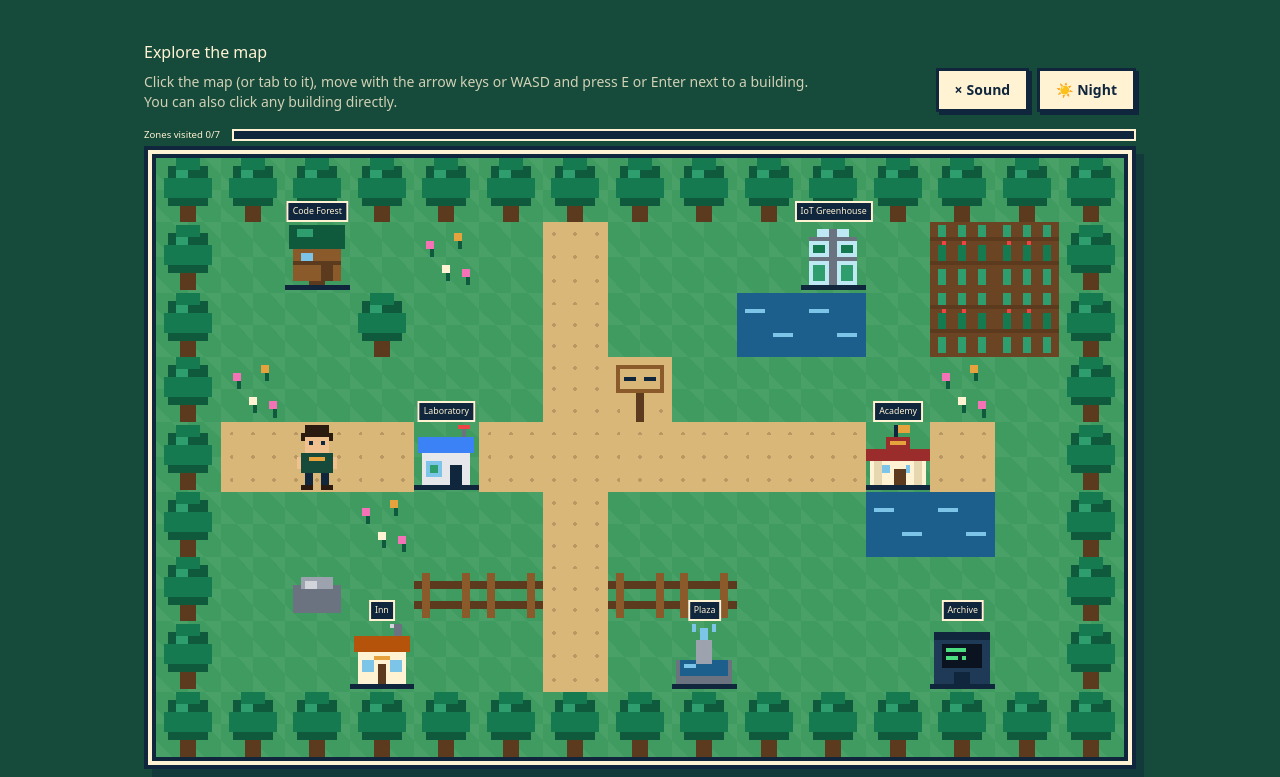
it: PortfolioWorld › renders in English
Click the element named "Diecu's Engineering Quest map" at (640, 457), box 152,154 -> 1128,760
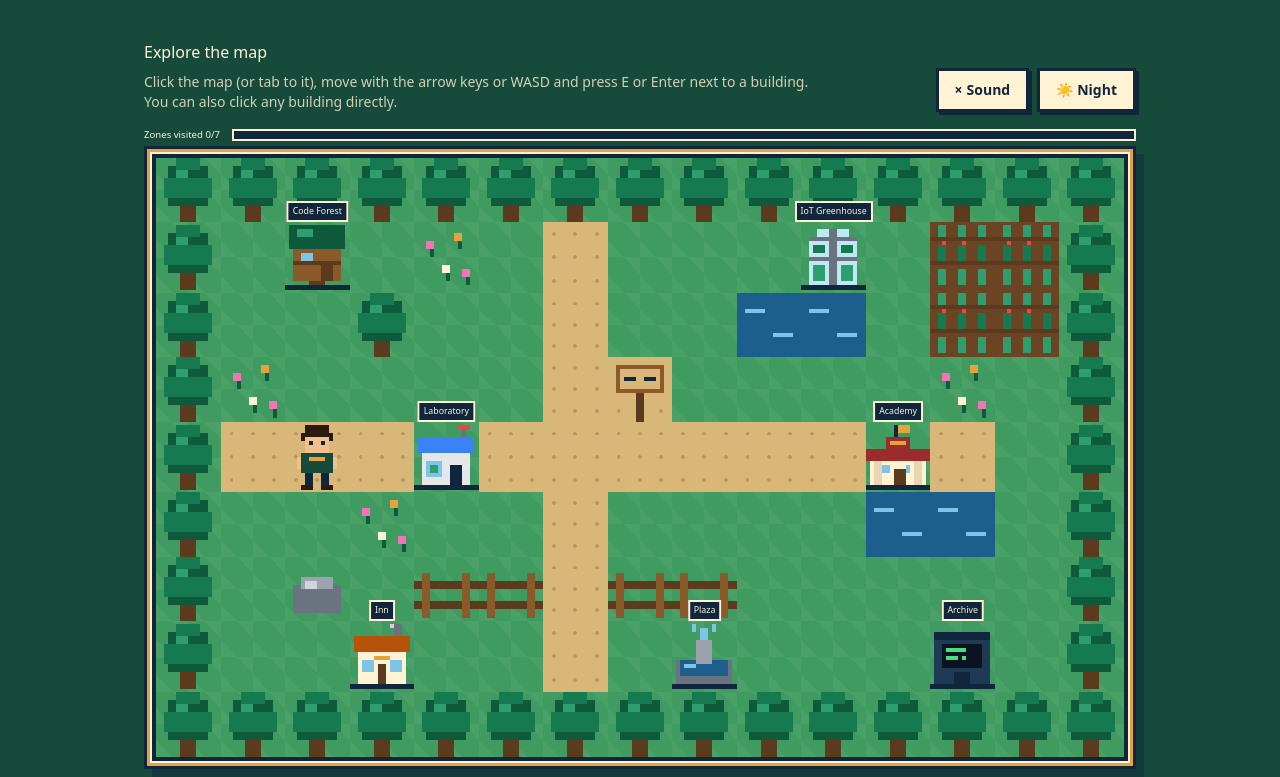
Type keys "{ArrowRight}e"
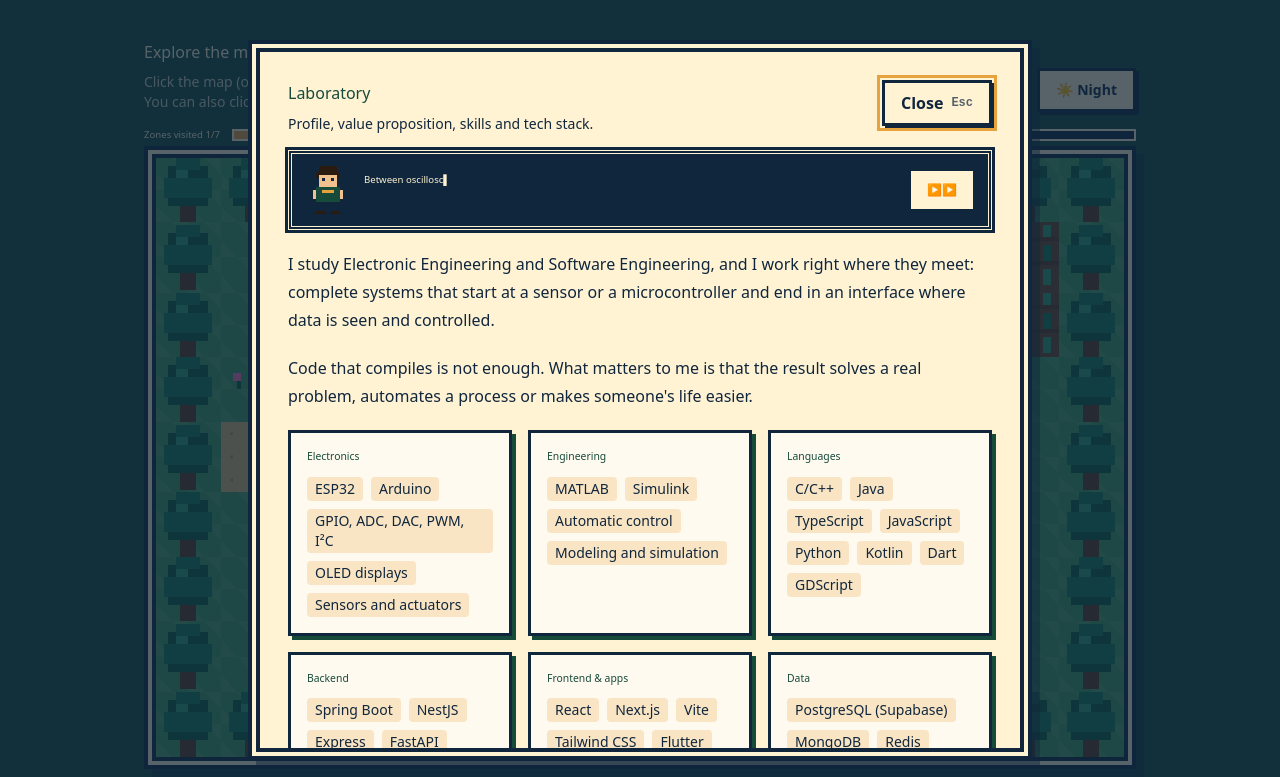
expect the dialog "Laboratory" is shown: met, box 256,48 -> 1024,752
